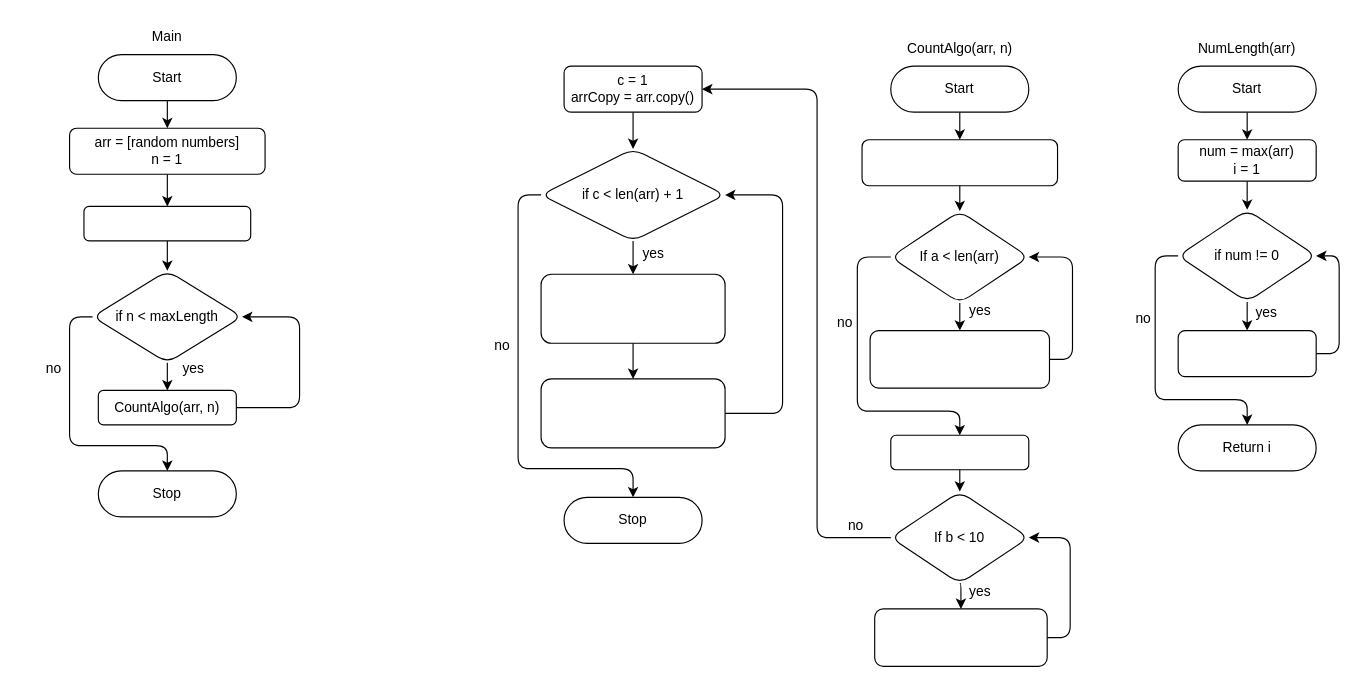
This 1369x687 diagram has some shape labels left out. Here are the shapes that lost their labels. From the top down, the box of each, then its label:
(861, 139, 1058, 186): count = [[0] * 10] a = 0
(83, 205, 251, 241): maxLength = NumLength
(540, 273, 725, 343): num = arrCopy[-c] digit = (num % 10 n ) // 10 n-1
(869, 329, 1049, 388): digit = (arr[a] % 10 n ) // 10 n-1 count[digit] += 1 a += 1
(1177, 329, 1316, 377): number //= 10 i += 1
(540, 378, 725, 448): index = count[digit] - 1 arr[index] = num count[digit] -= 1
(890, 434, 1029, 470): b = 1
(874, 608, 1047, 666): count[b] += count[b-1]
